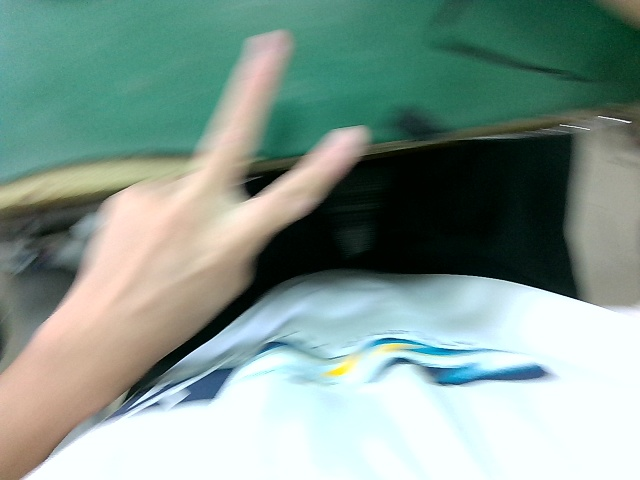scissor: (74, 23, 380, 354)
